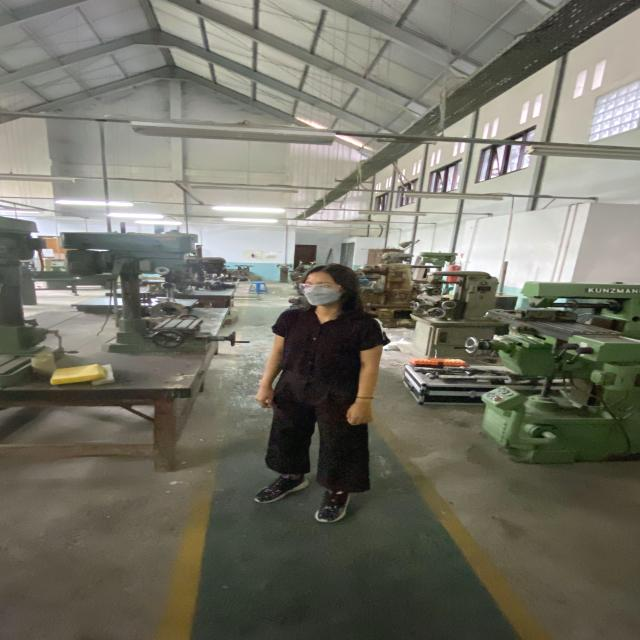face_mask: (292, 280, 345, 305)
glasses: (290, 282, 346, 292)
hand_noglove: (340, 403, 379, 427), (250, 386, 278, 406)
head_nohelmet: (298, 261, 354, 281)
person: (244, 260, 394, 526)
shoes: (250, 470, 317, 508), (307, 485, 360, 526)
